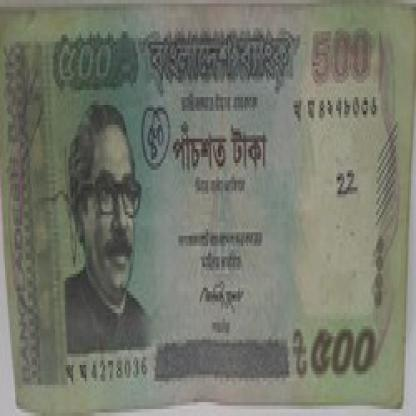500 taka: (52, 28, 138, 100)
currency: (1, 7, 408, 395)
